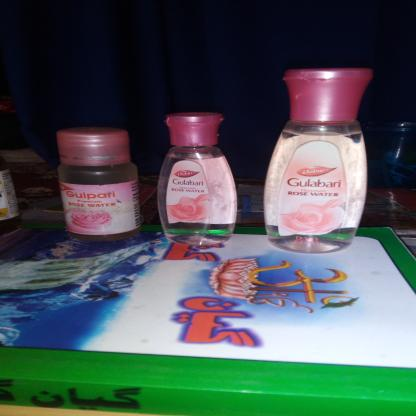bottle: (264, 67, 377, 257), (153, 112, 241, 250), (56, 129, 145, 244)
